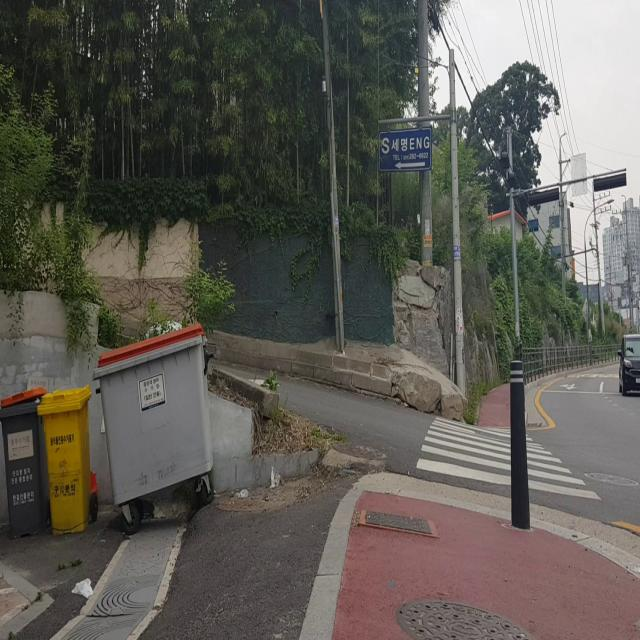횡단보도: (414, 412, 604, 502)
